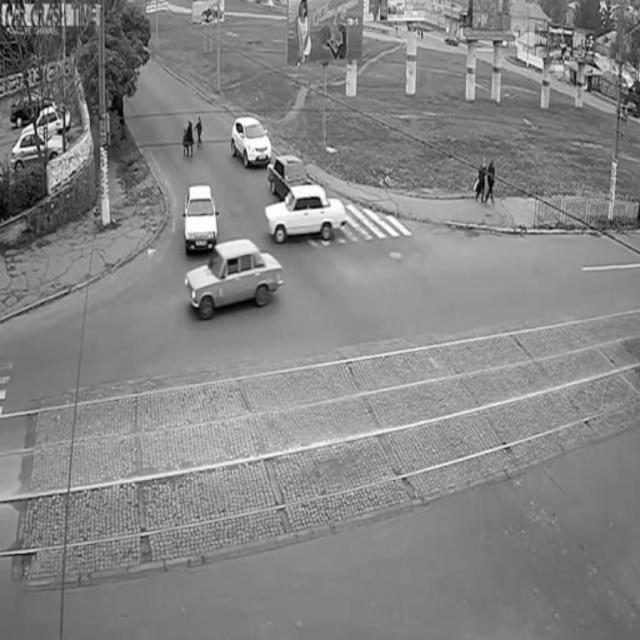person: (480, 152, 497, 204), (179, 114, 196, 159), (195, 103, 205, 151)
vehicle: (185, 241, 281, 314), (268, 182, 349, 243), (178, 184, 223, 257), (12, 121, 66, 176), (266, 148, 312, 200), (232, 114, 274, 168)
